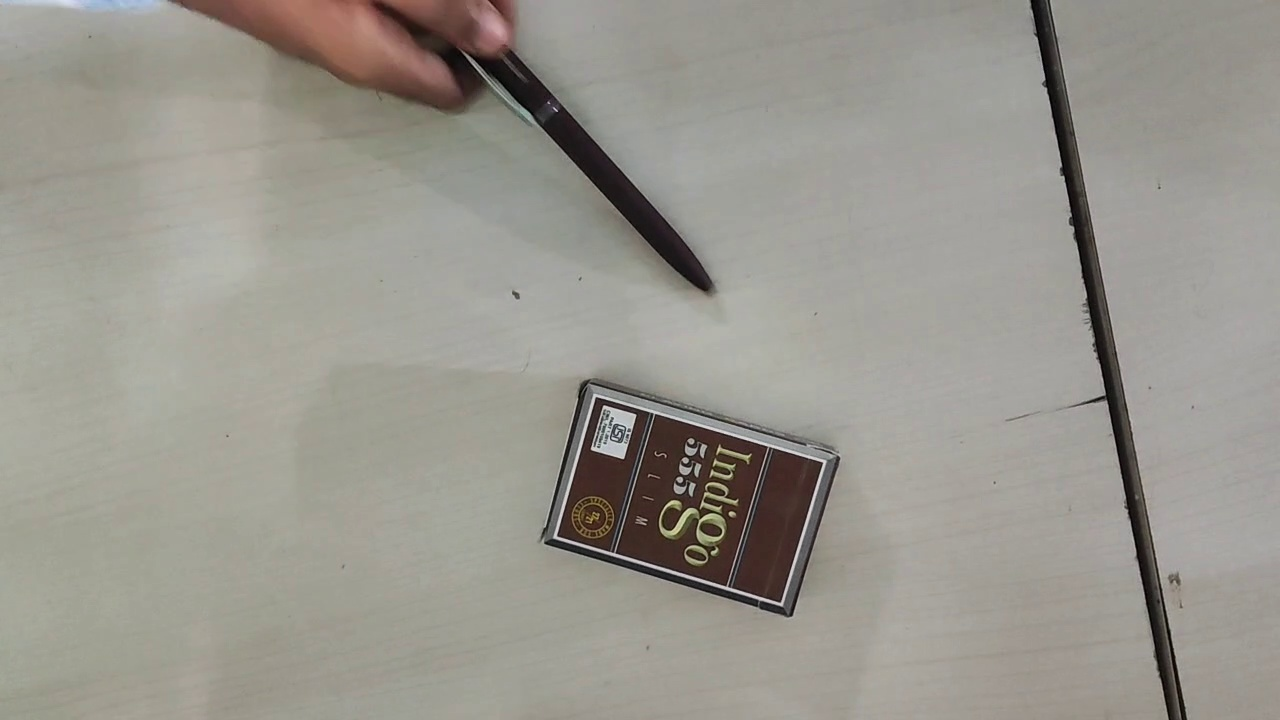BEX: (555, 396, 821, 603)
